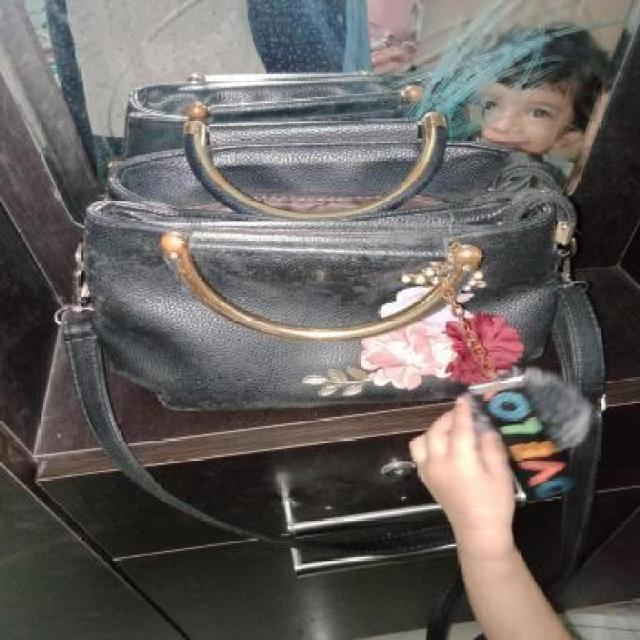backpack: (52, 178, 610, 422)
